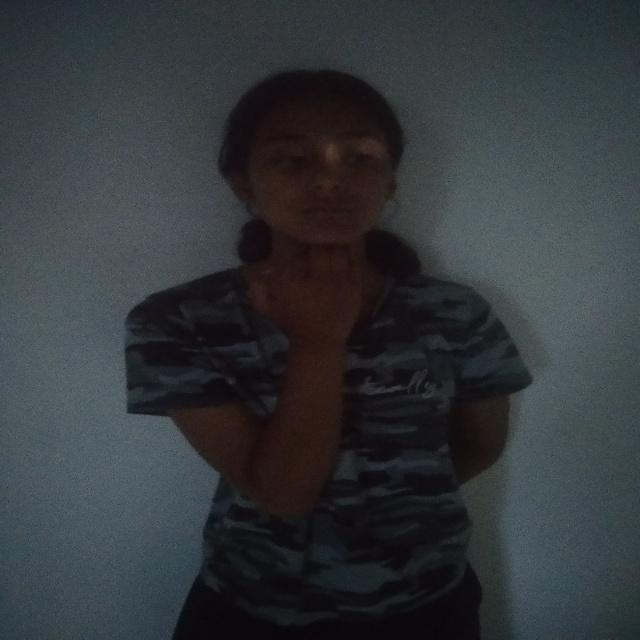Chin Flick: (216, 63, 416, 349)
